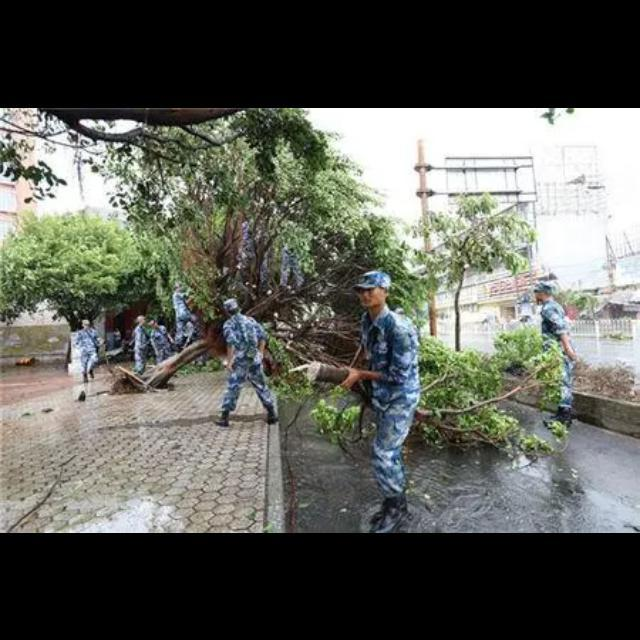fallen_tree: (136, 152, 404, 384), (308, 343, 546, 465)
